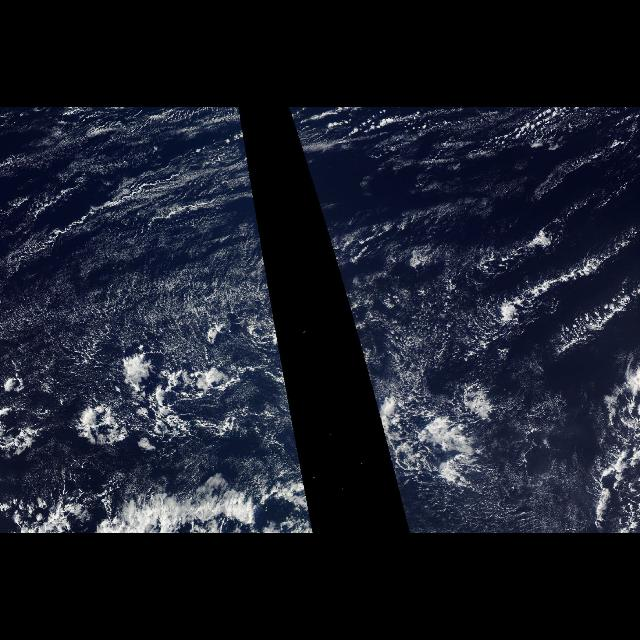Fish: (7, 157, 245, 263), (498, 206, 636, 360), (5, 473, 314, 532)
Sugar: (13, 237, 280, 361), (338, 274, 469, 350)
